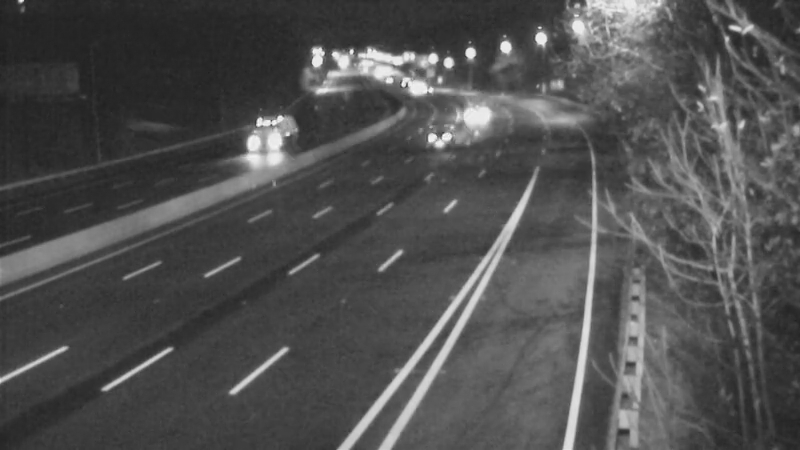vehicle: (385, 66, 435, 116), (447, 84, 497, 134), (414, 115, 464, 165), (234, 121, 284, 171)
